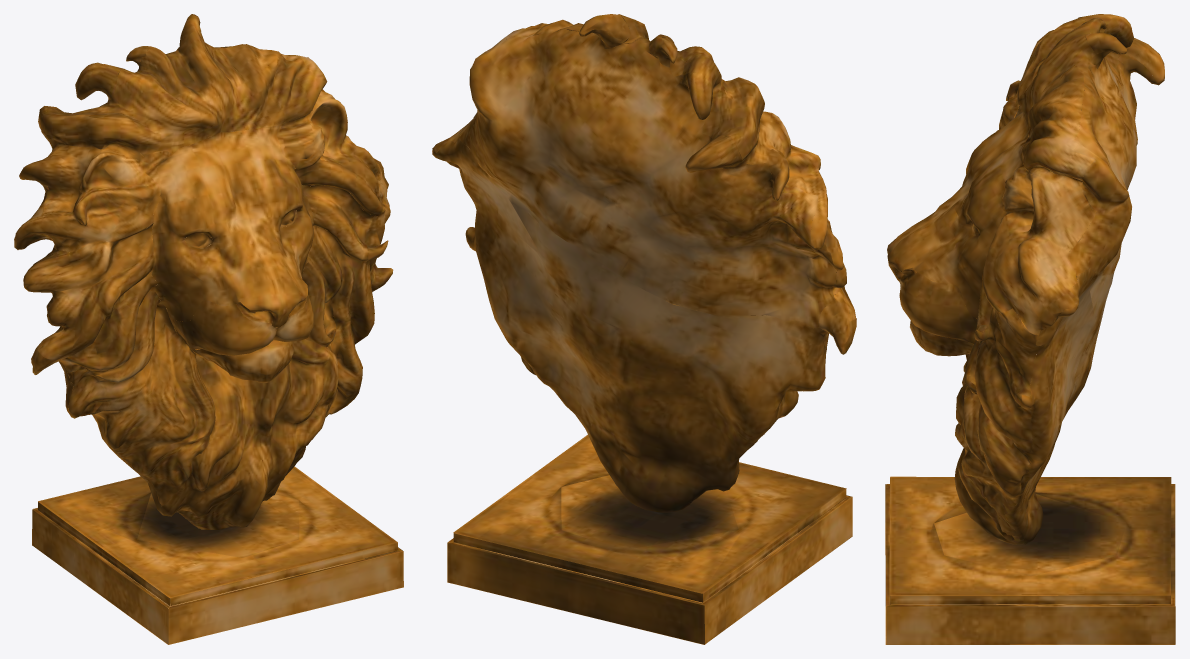
Rendered from nyb_devils_lion.glb.
3 renders of one model, left to right at view 1: azimuth 30°, elevation 25°; view 2: azimuth 150°, elevation 25°; view 3: azimuth 270°, elevation 25°, orthographic. The views are drawn at different scales.
Visible parts, largest first — view 1: lion_head; view 2: lion_head; view 3: lion_head.
Part boxes in pixels (x1,y1,x2,y2): lion_head: (14,14,403,644); lion_head: (432,14,856,644); lion_head: (885,14,1175,644).
Bounding box in the file's own units: 0.3209 × 0.4361 × 0.2068.
1 material, 1 textured.
